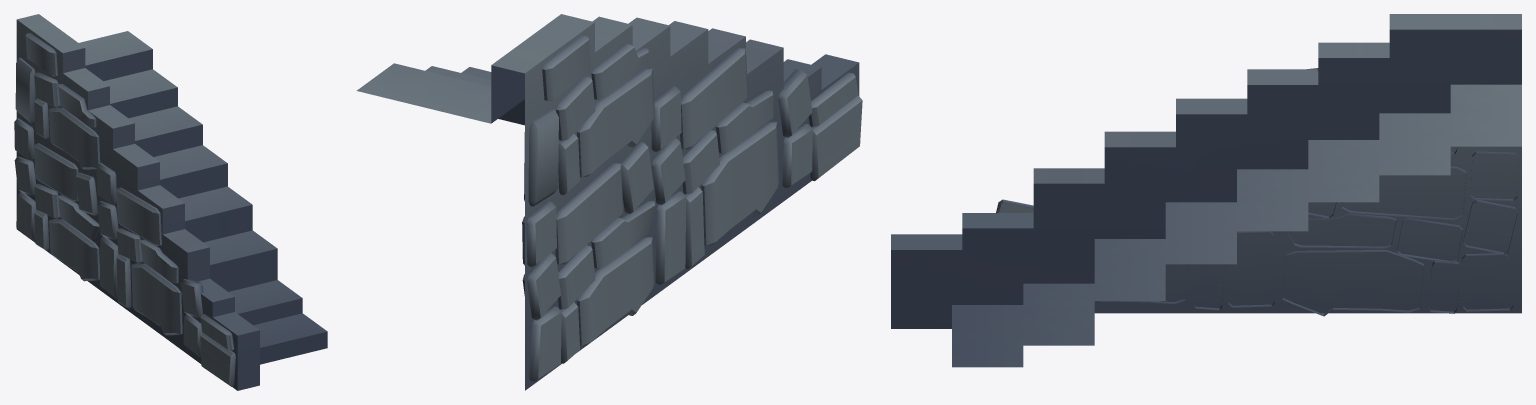
3 views of the same model, side by side, from view 1: azimuth 30°, elevation 25°; view 2: azimuth 150°, elevation 25°; view 3: azimuth 270°, elevation 25° (orthographic). The views are drawn at different scales.
Parts seen in each view (by area): view 1: Cube_2; view 2: Cube_2; view 3: Cube_2.
Part boxes in pixels (<box>): Cube_2: <box>14,14,327,390</box>; Cube_2: <box>356,14,862,390</box>; Cube_2: <box>891,14,1521,367</box>.
Size of the model in its own units: 64.03 by 111 by 211.
